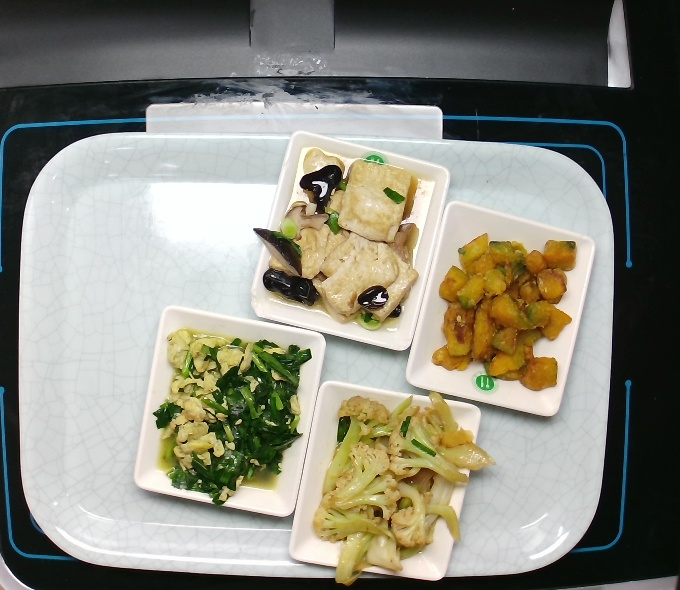wcq-DanHuangNanGua: (432, 222, 582, 398)
wcq-JiaChangDouFu: (251, 145, 441, 327)
wcq-JiuCaiJiDan: (131, 326, 321, 508)
wcq-QiuCai: (294, 373, 490, 581)
